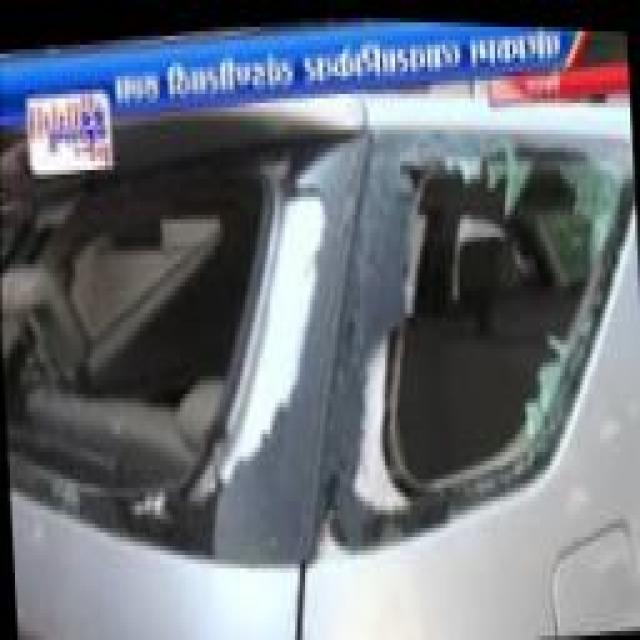replaceable: (0, 134, 298, 488), (392, 136, 608, 472)
